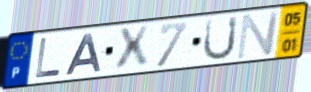7: (158, 20, 190, 69)
A: (64, 32, 104, 77)
L: (33, 36, 63, 80)
N: (235, 9, 283, 62)
U: (201, 14, 240, 63)
X: (115, 23, 152, 74)
